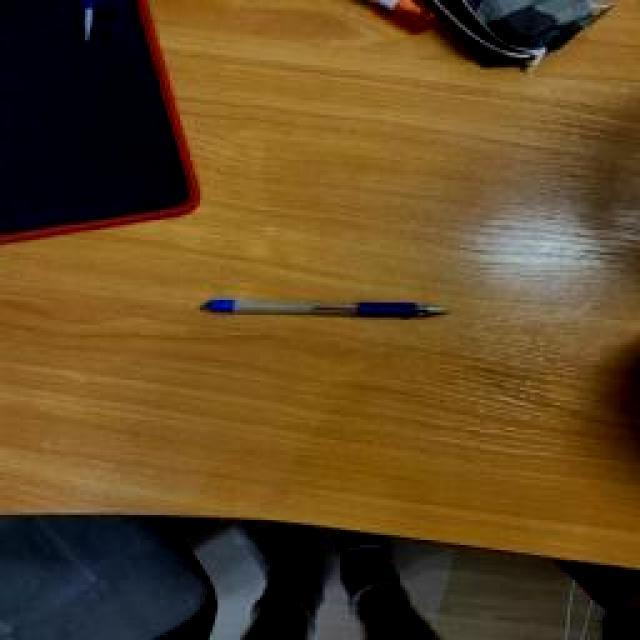pen: (205, 298, 453, 318)
